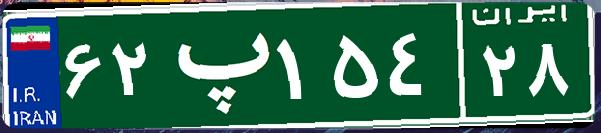1: (273, 28, 330, 110)
2: (475, 38, 525, 113), (110, 28, 158, 105)
4: (385, 28, 445, 110)
5: (330, 28, 385, 110)
6: (57, 26, 110, 107)
8: (525, 38, 570, 115)
پ: (158, 15, 273, 115)
